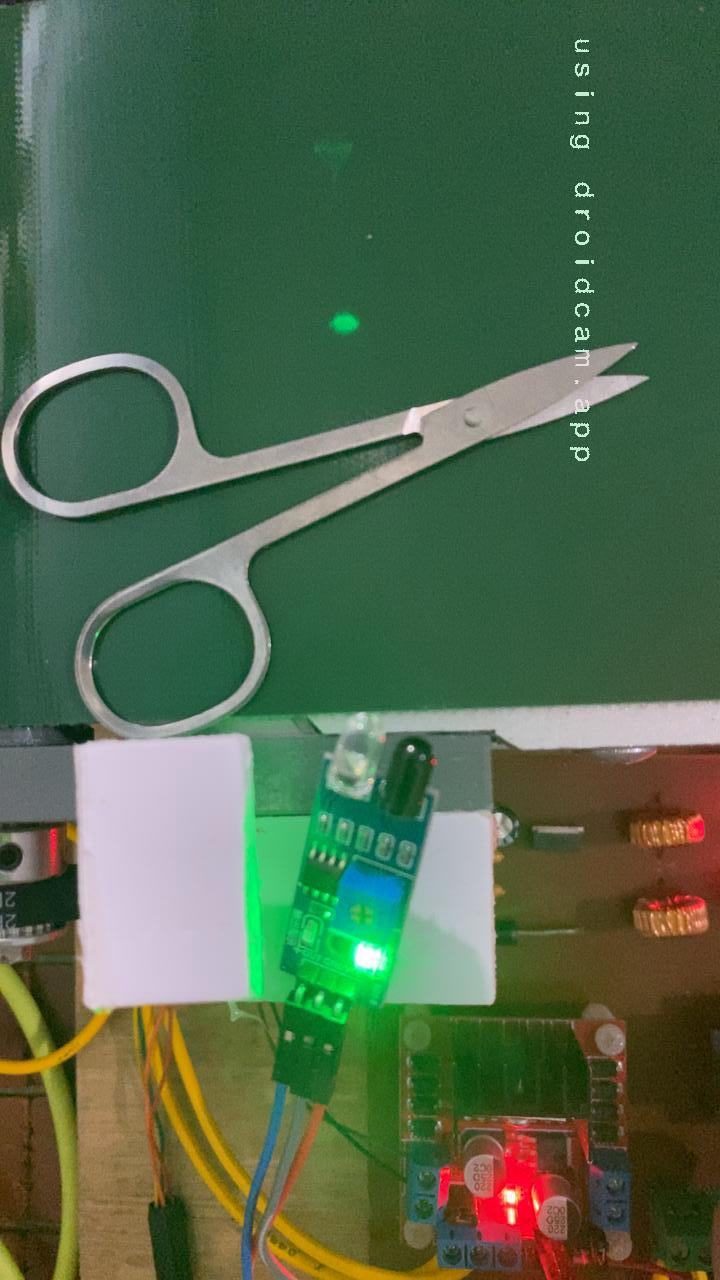scissor: (0, 335, 656, 714)
